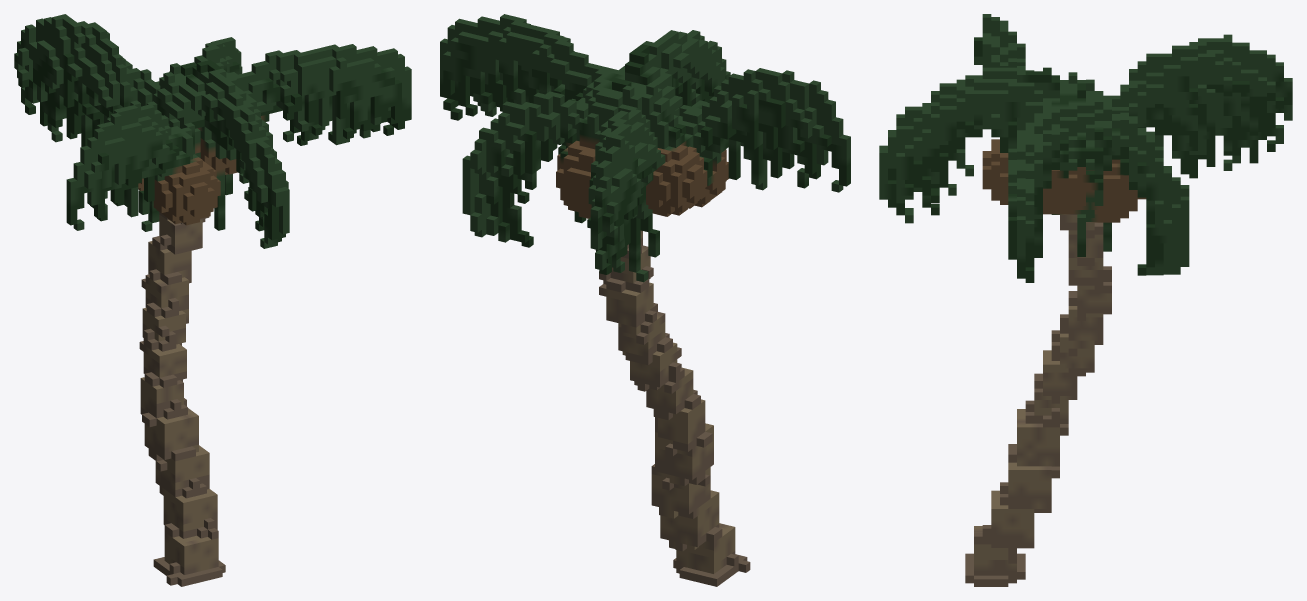
Rendered from Palm_large.fbx.
3 renders of one model, left to right at view 1: azimuth 30°, elevation 25°; view 2: azimuth 150°, elevation 25°; view 3: azimuth 270°, elevation 25°, orthographic. The views are drawn at different scales.
Visible parts, largest first — view 1: palmtree_large; view 2: palmtree_large; view 3: palmtree_large.
Part boxes in pixels (x1,y1,x2,y2): palmtree_large: [14, 14, 411, 586]; palmtree_large: [440, 14, 850, 586]; palmtree_large: [879, 14, 1292, 586].
Bounding box in the file's own units: 52 × 67 × 48.
